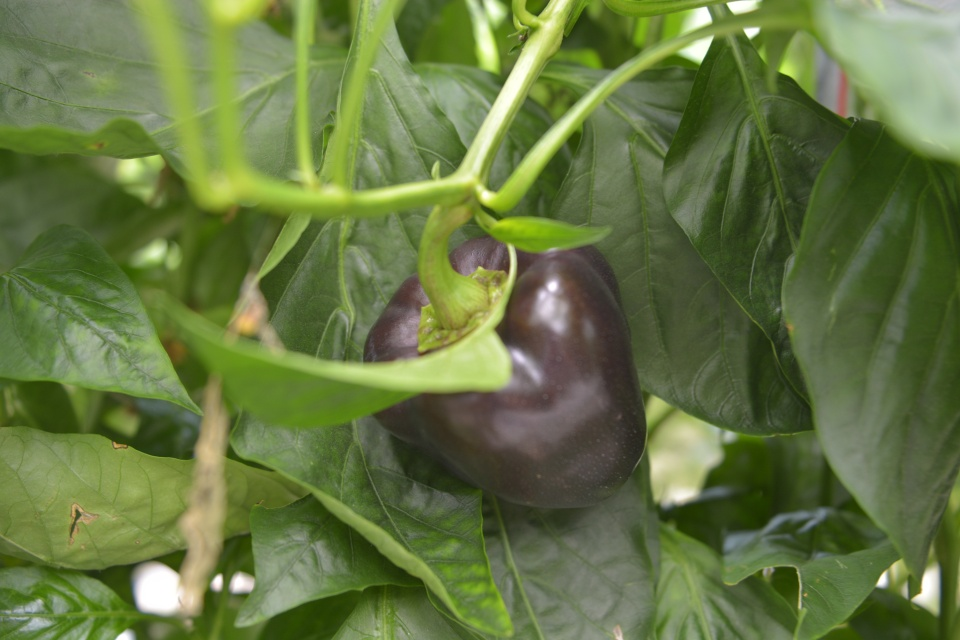fruit: (356, 224, 652, 514)
pedicle: (419, 263, 513, 344)
